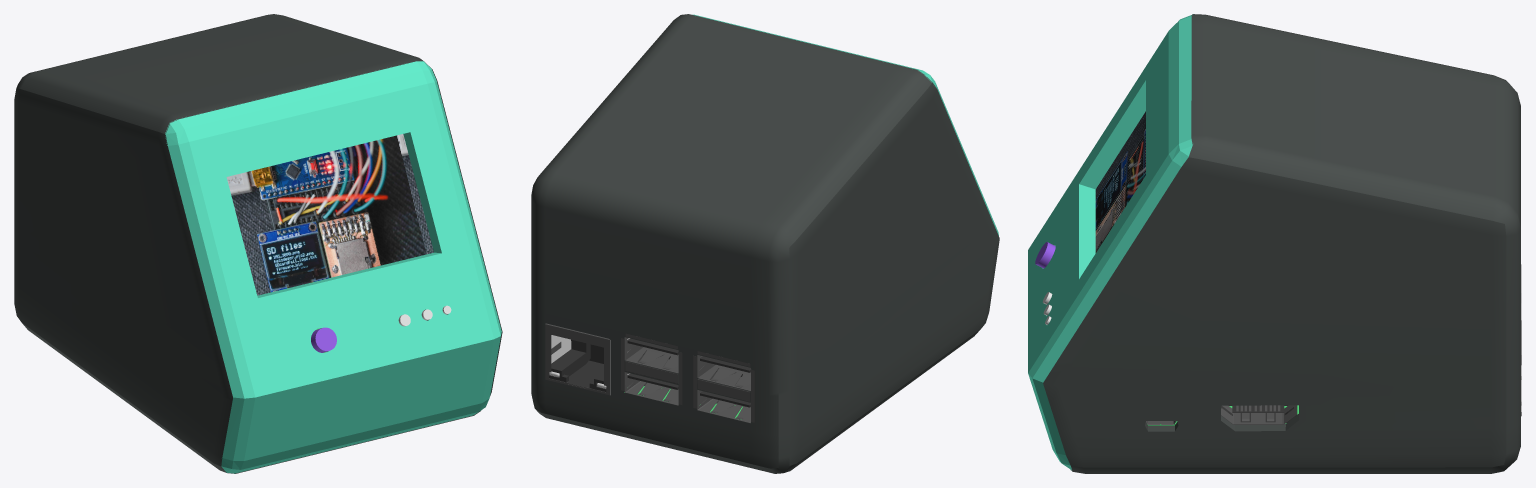
File: Genosense.fbx
3 views of the same model, side by side, from view 1: azimuth 30°, elevation 25°; view 2: azimuth 150°, elevation 25°; view 3: azimuth 270°, elevation 25° (orthographic). The views are drawn at different scales.
Parts seen in each view (by area): view 1: body, pasted__pCube1, screen, button; view 2: body, RaspberryPi, pasted__pCube1; view 3: body, pasted__pCube1, screen, RaspberryPi.
Part boxes in pixels (box(x1,y1,x2,y2)): body: box(14, 14, 502, 473); pasted__pCube1: box(165, 61, 501, 473); screen: box(226, 134, 433, 295); button: box(311, 327, 336, 352); body: box(531, 14, 999, 473); RaspberryPi: box(545, 323, 754, 423); pasted__pCube1: box(692, 14, 998, 235); body: box(1043, 14, 1520, 473); pasted__pCube1: box(1028, 14, 1193, 470); screen: box(1095, 111, 1145, 252); RaspberryPi: box(1146, 264, 1521, 425).
Size of the model in its own units: 8.72 by 9.59 by 12.84.
